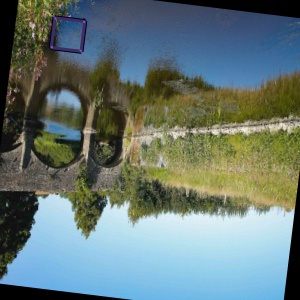square: (47, 14, 88, 56)
